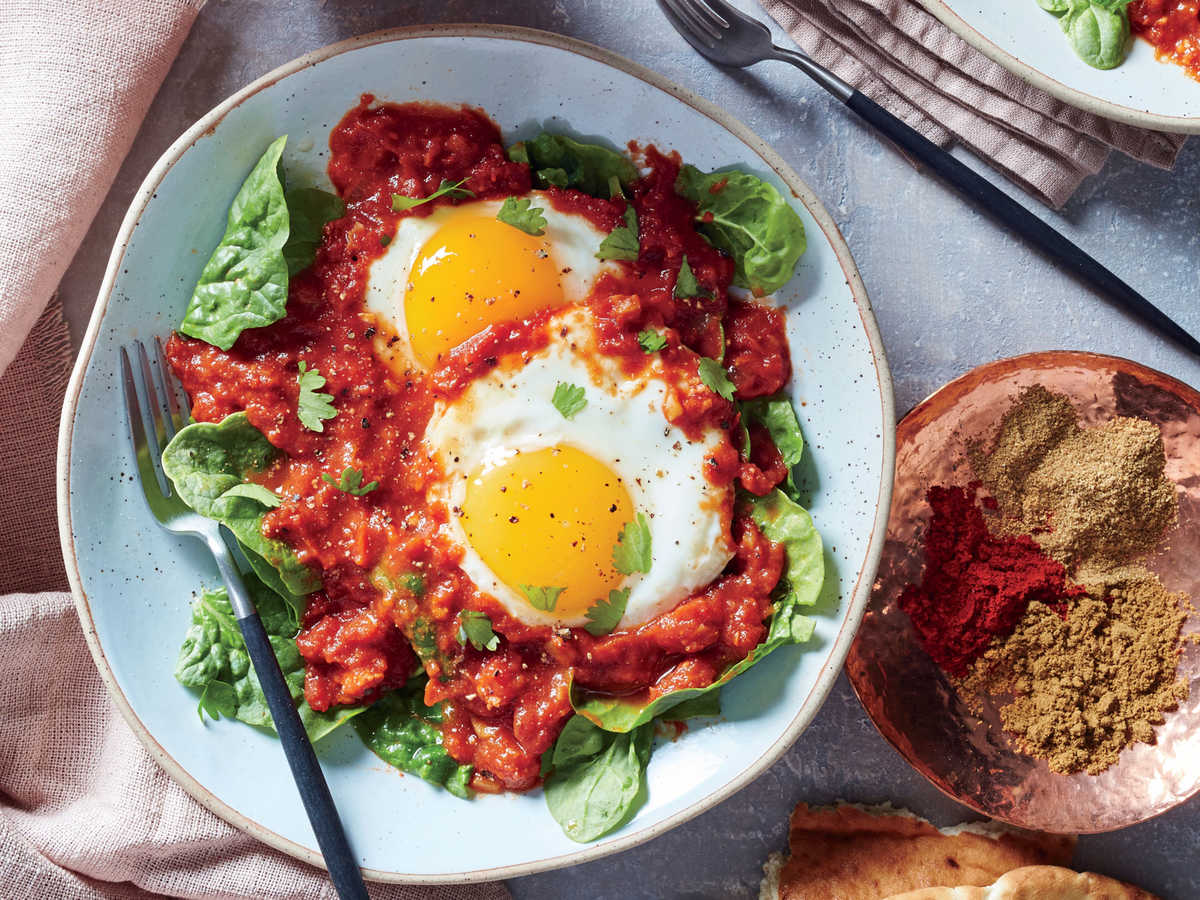fried egg: (411, 330, 734, 644), (334, 150, 641, 414)
